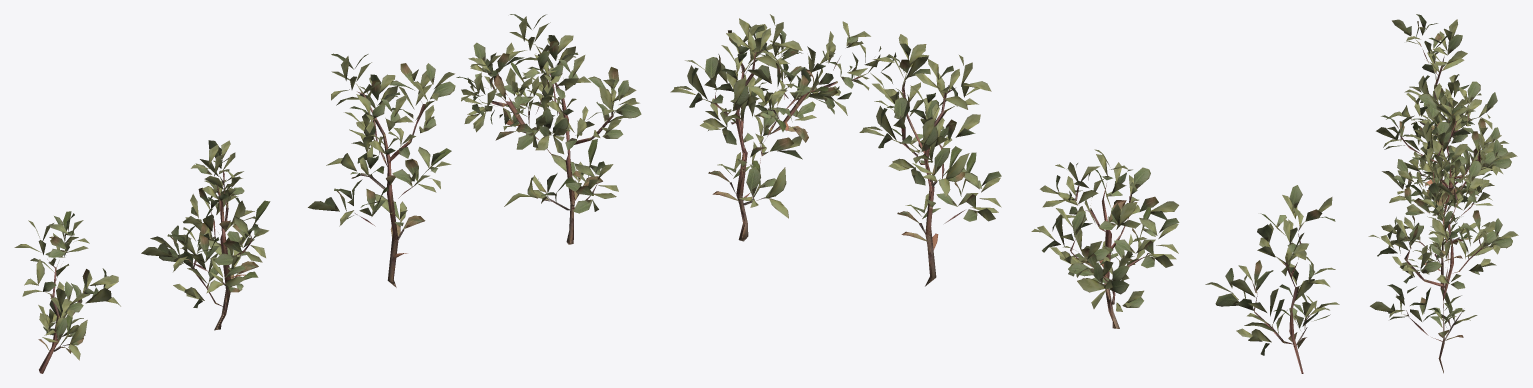
Rendered from shrub_04.glb.
3 renders of one model, left to right at view 1: azimuth 30°, elevation 25°; view 2: azimuth 150°, elevation 25°; view 3: azimuth 270°, elevation 25°, orthographic. The views are drawn at different scales.
Parts seen in each view (by area): view 1: shrub_04; view 2: shrub_04; view 3: shrub_04.
Part boxes in pixels (<box>): shrub_04: <box>14,14,641,373</box>; shrub_04: <box>670,14,1339,373</box>; shrub_04: <box>1368,14,1518,373</box>.
Bounding box in the file's own units: 0.5837 × 0.2185 × 0.1461.
Materials: 1 (1 with a texture image).
